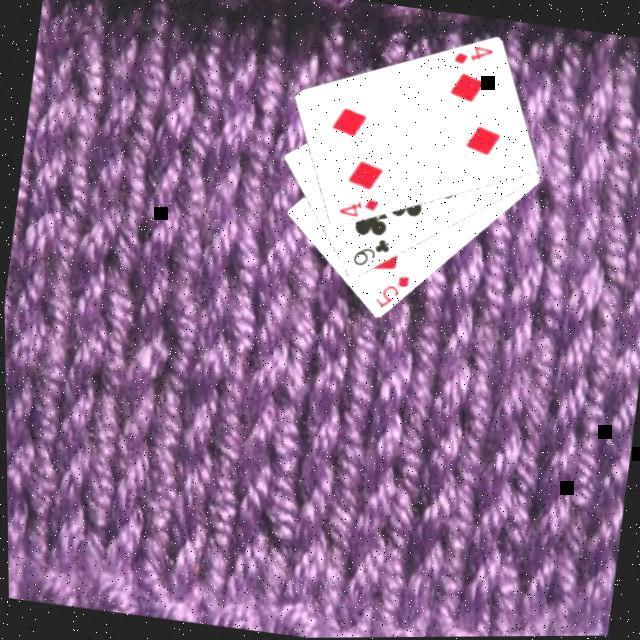4D: (332, 190, 380, 222), (446, 38, 494, 70)
5D: (368, 267, 412, 313)
9C: (346, 230, 392, 272)
